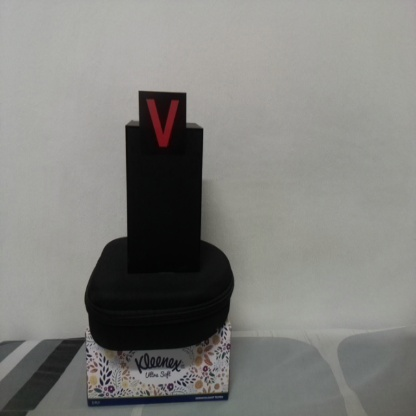id_11: (140, 91, 187, 161)
